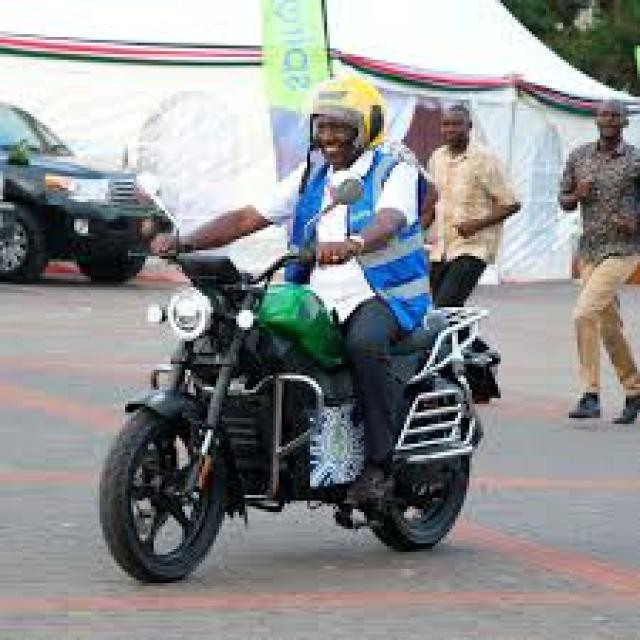bodaboda: (79, 154, 524, 609)
